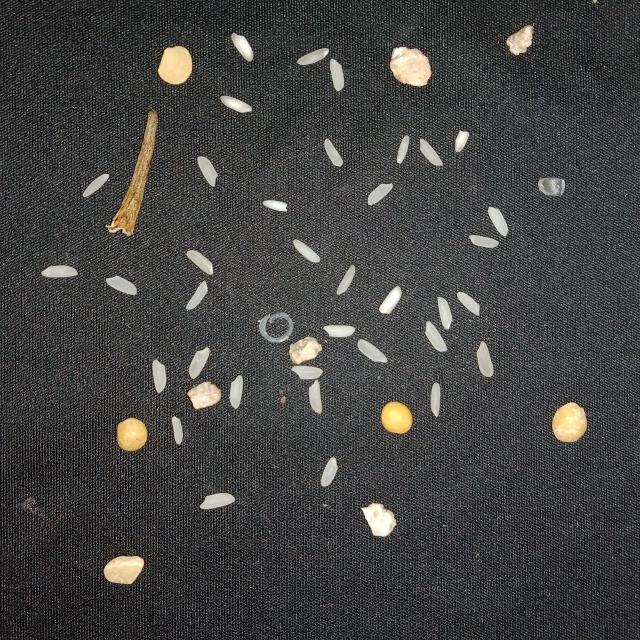Broken: (455, 130, 469, 152)
Full: (357, 339, 388, 363), (188, 347, 210, 379), (378, 286, 402, 315), (425, 321, 447, 352), (187, 250, 214, 275), (419, 138, 443, 166), (293, 239, 321, 263), (231, 33, 254, 62), (186, 280, 208, 310), (83, 173, 109, 197), (198, 156, 218, 187), (477, 341, 494, 377), (488, 206, 508, 236), (336, 265, 356, 295), (297, 47, 328, 66), (106, 276, 137, 295), (324, 138, 344, 167), (220, 95, 252, 113), (200, 493, 235, 509), (457, 292, 480, 316), (368, 183, 393, 205), (321, 457, 338, 487), (152, 359, 167, 393), (308, 379, 322, 414), (41, 265, 78, 278), (229, 375, 243, 409), (438, 296, 452, 330), (330, 58, 344, 92), (291, 366, 323, 380), (323, 325, 355, 338), (468, 235, 498, 248), (397, 135, 410, 164), (430, 382, 440, 419), (262, 200, 288, 212), (172, 416, 183, 444)
